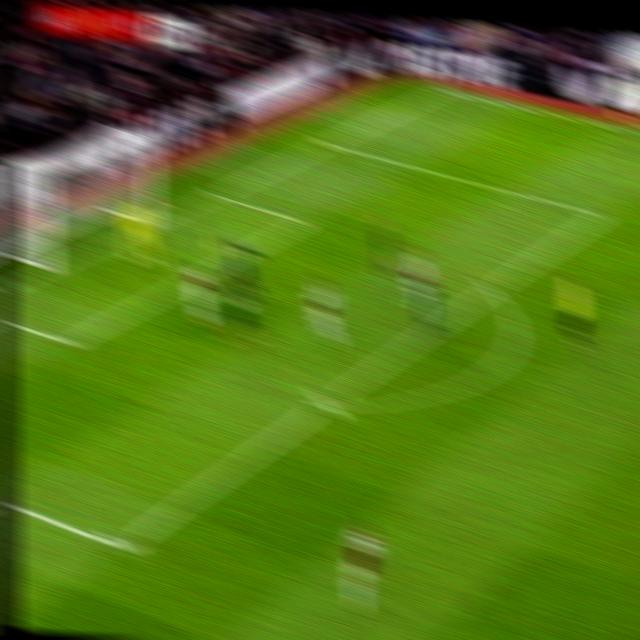bigarea_bottom_inner: (99, 519, 144, 574)
bigarea_top_inner: (588, 200, 616, 229)
bigarea_top_outter: (313, 132, 338, 153)
bottom_arc_area_intersection: (308, 381, 345, 424)
corner: (429, 81, 455, 98)
smallarea_bottom_inner: (52, 322, 84, 361)
smallarea_top_inner: (290, 208, 316, 233)
smallarea_top_outter: (200, 180, 227, 209)
top_arc_area_intersection: (478, 276, 503, 304)
